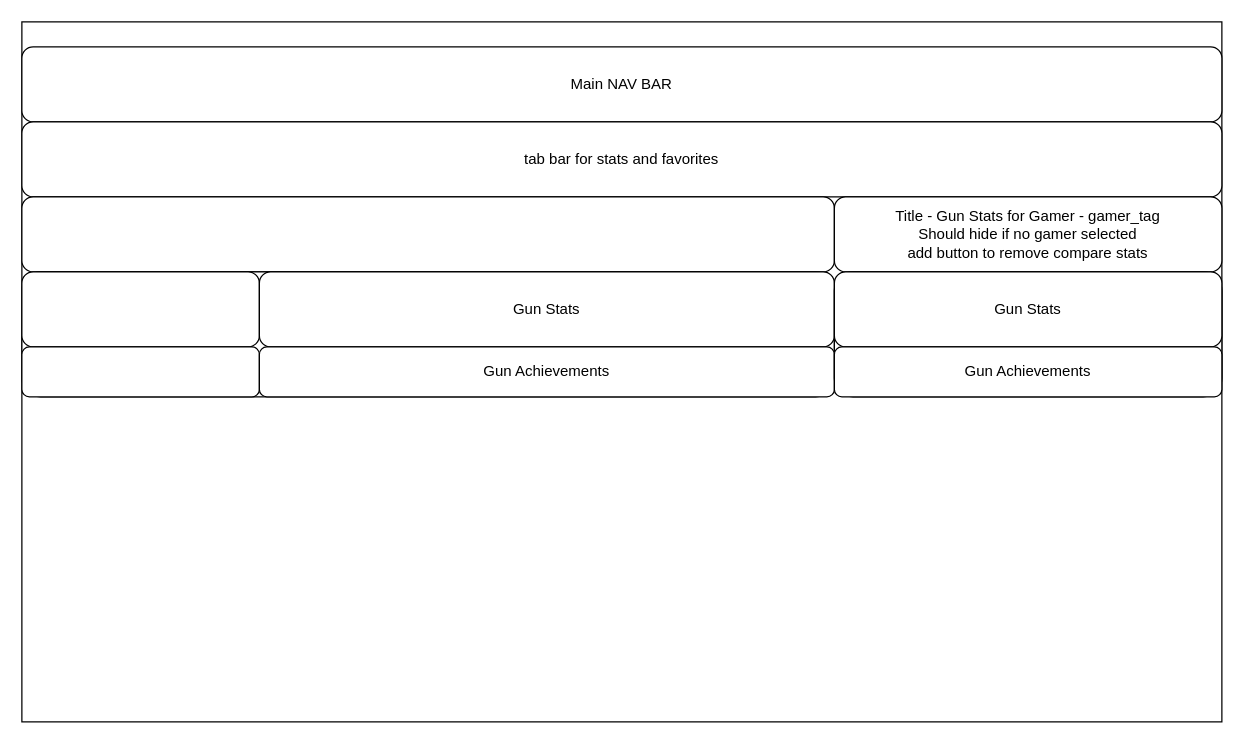
This 1244x744 diagram has some shape labels left out. Here are the shapes that lost their labels. From the top down, the centre of each, then its label:
At point (427, 234): "Title - My Favourite Gun Stats".
At point (140, 309): "Gun Image".
At point (140, 371): "Gun Name".
